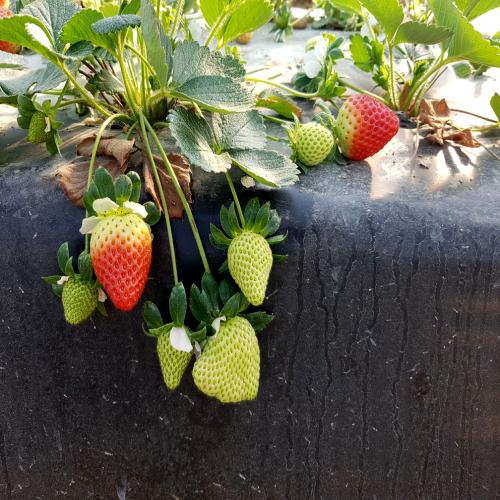partially-ripe: (87, 205, 154, 319), (335, 94, 404, 166)
unripe: (192, 320, 271, 410)
